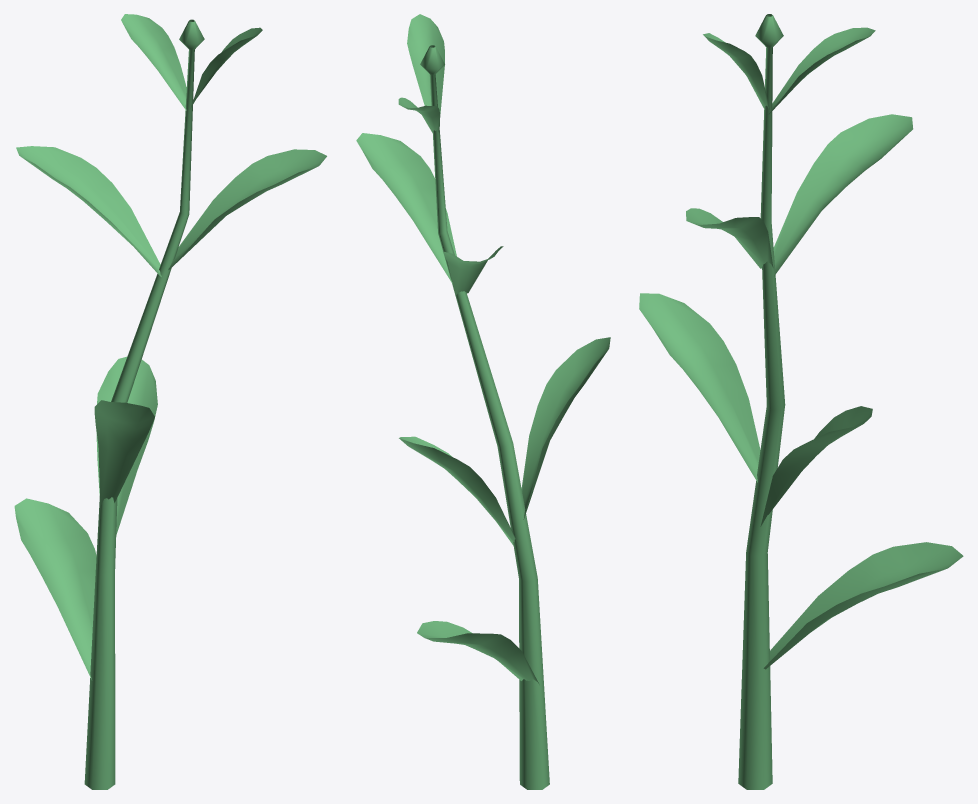
Rendered from Bush5.fbx.
The picture shows the model from 3 angles, left to right: view 1: azimuth 30°, elevation 25°; view 2: azimuth 150°, elevation 25°; view 3: azimuth 270°, elevation 25°; orthographic projection. The views are drawn at different scales.
Parts seen in each view (by area): view 1: Circle.005; view 2: Circle.005; view 3: Circle.005.
Part boxes in pixels (x1,y1,x2,y2): Circle.005: (14, 14, 326, 789); Circle.005: (356, 14, 610, 789); Circle.005: (639, 14, 963, 789).
Bounding box in the file's own units: 0.6786 × 2.03 × 0.7264.
